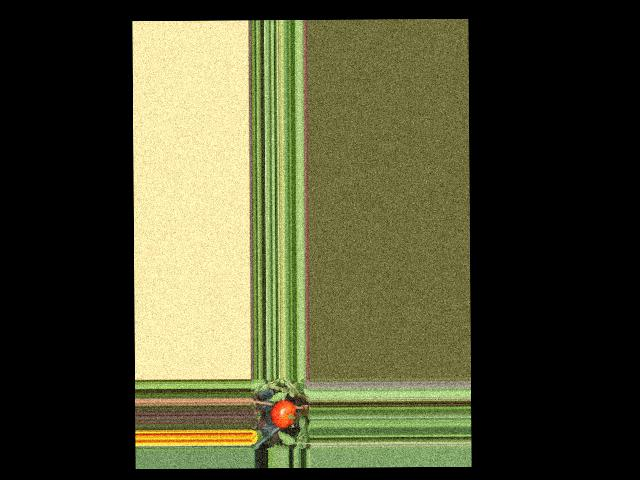tomato: (270, 399, 295, 428)
